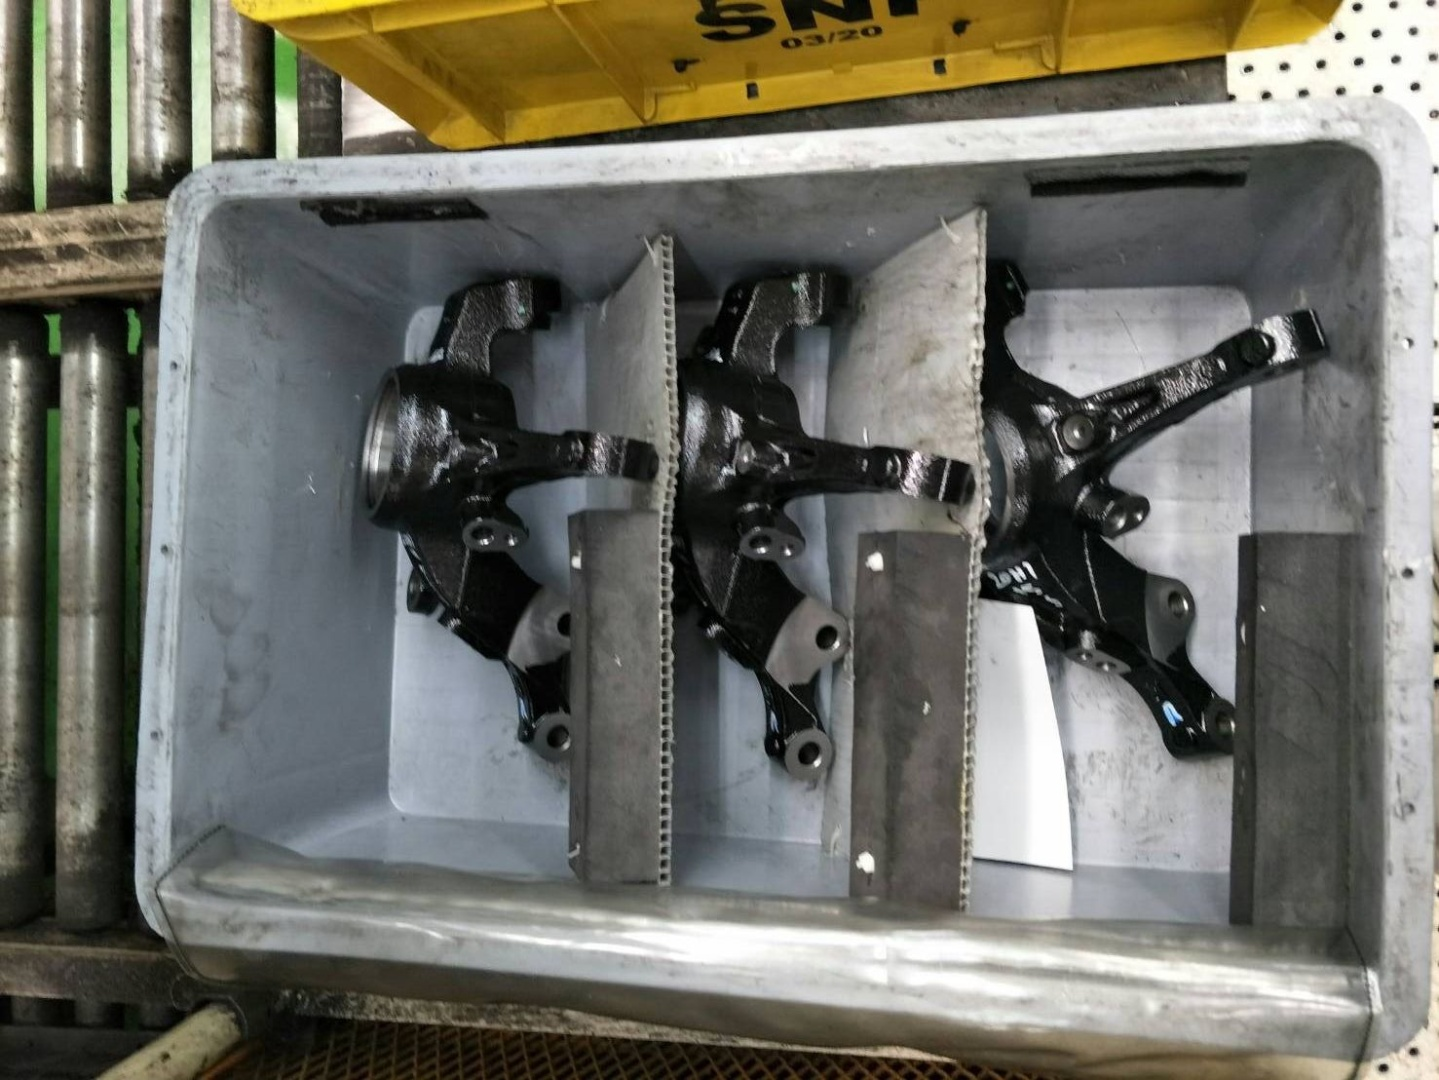abs-rh: (976, 246, 1341, 781), (667, 259, 983, 788), (352, 268, 662, 775)
